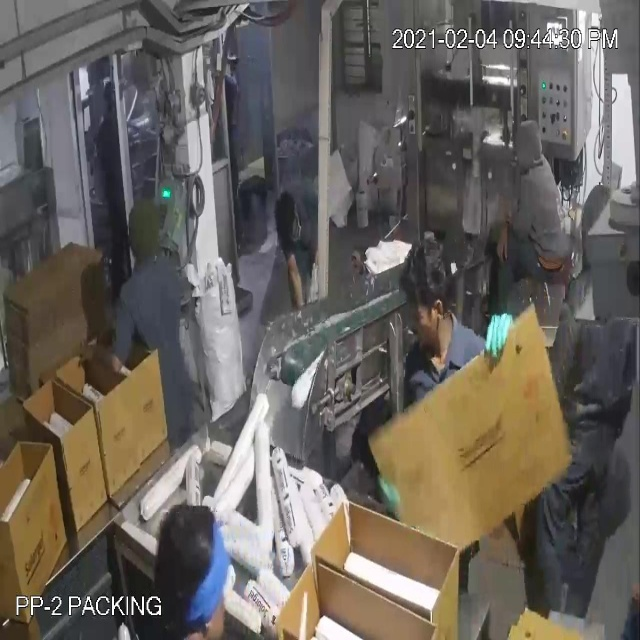Guantes: (472, 306, 520, 366)
Sin_guantes: (74, 327, 123, 384), (496, 201, 519, 281), (283, 243, 308, 308)
